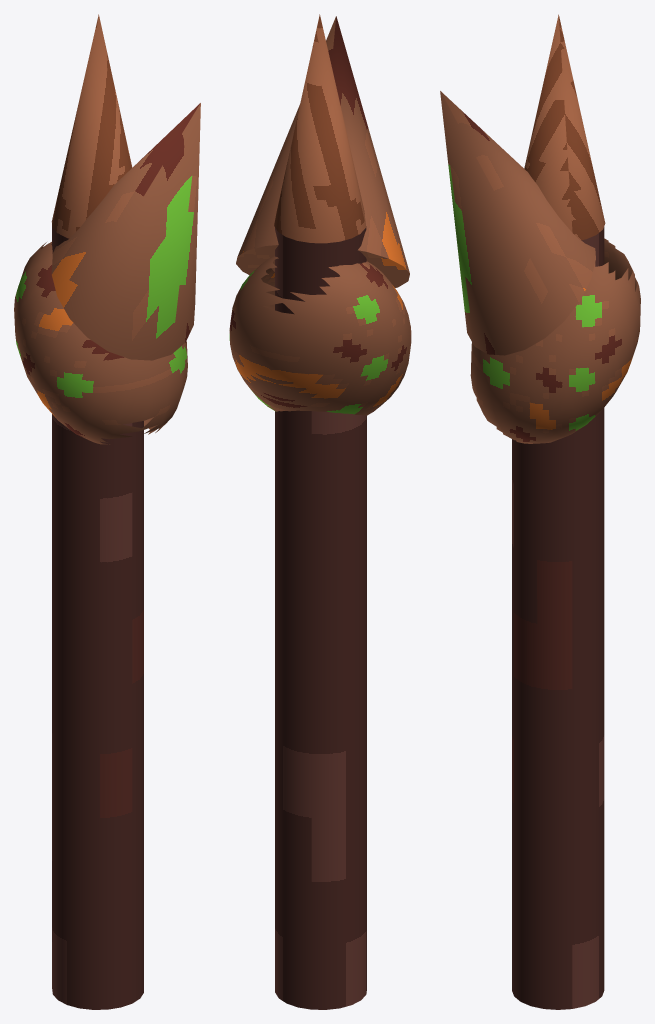
Rendered from OrcCampPike.fbx.
The picture shows the model from 3 angles, left to right: view 1: azimuth 30°, elevation 25°; view 2: azimuth 150°, elevation 25°; view 3: azimuth 270°, elevation 25°; orthographic projection.
Parts seen in each view (by area): view 1: Pike, StatueHat, Statue_Head1, pCone1; view 2: Pike, Statue_Head1, pCone1, StatueHat; view 3: Pike, StatueHat, Statue_Head1, pCone1.
Boxes of the visible parts, x1,y1,x2,y2 form: Pike: (52,225,143,1009); StatueHat: (51,103,200,360); Statue_Head1: (14,242,187,444); pCone1: (51,14,132,238); Pike: (275,226,366,1009); Statue_Head1: (229,255,411,415); pCone1: (274,14,366,243); StatueHat: (236,16,409,287); Pike: (512,227,604,1009); StatueHat: (440,91,595,355); Statue_Head1: (470,238,640,443); pCone1: (524,14,605,240).
Size of the model in its own units: 1130 by 6513 by 1214.
Materials: 3 (3 with a texture image).
